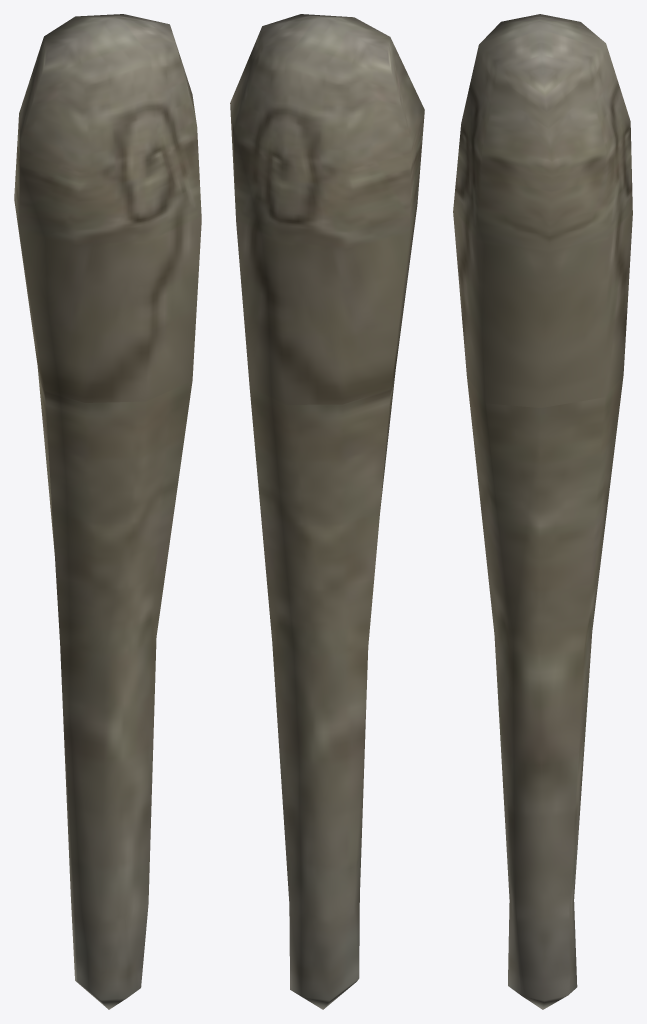
Rendered from stoneClub.glb.
3 views of the same model, side by side, from view 1: azimuth 30°, elevation 25°; view 2: azimuth 150°, elevation 25°; view 3: azimuth 270°, elevation 25° (orthographic).
Visible parts, largest first — view 1: stoneClub; view 2: stoneClub; view 3: stoneClub.
Part boxes in pixels (left/top/right/bottom): stoneClub: left=14, top=14, right=201, bottom=1009; stoneClub: left=230, top=14, right=424, bottom=1009; stoneClub: left=453, top=14, right=632, bottom=1009.
Bounding box in the file's own units: 0.6254 × 3.36 × 0.554.
Materials: 1 (1 with a texture image).
